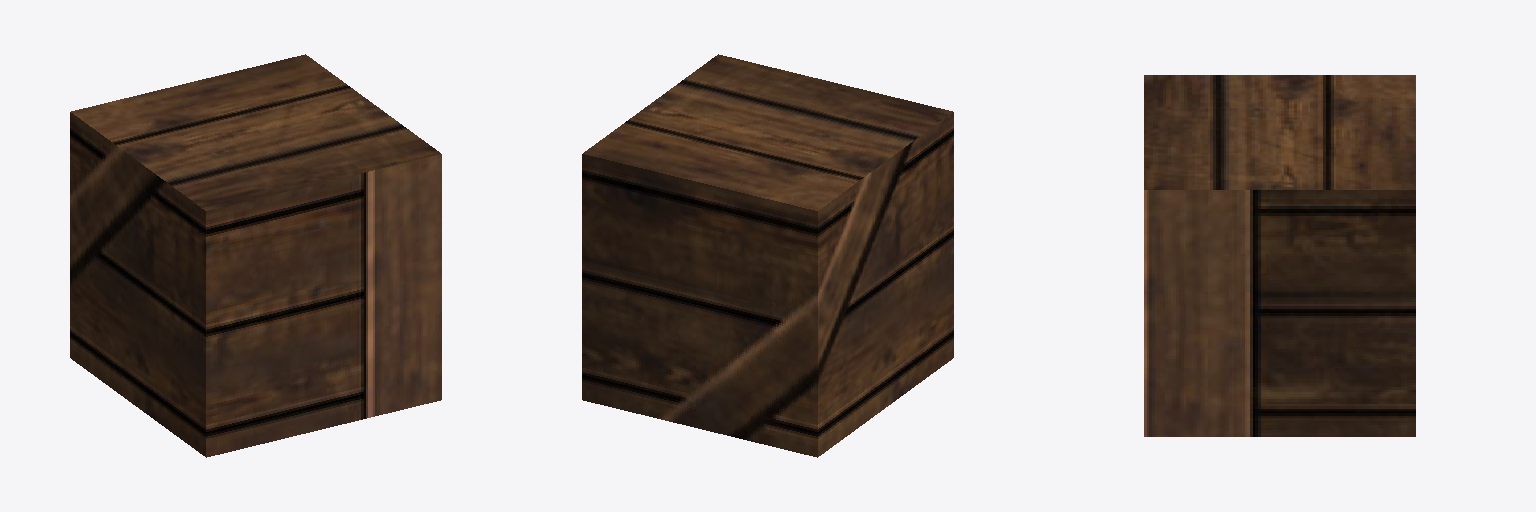
3 renders of one model, left to right at view 1: azimuth 30°, elevation 25°; view 2: azimuth 150°, elevation 25°; view 3: azimuth 270°, elevation 25°, orthographic.
Visible parts, largest first — view 1: Cube; view 2: Cube; view 3: Cube.
Part boxes in pixels (x1,y1,x2,y2): Cube: (70,54,441,457); Cube: (582,54,953,457); Cube: (1144,75,1415,436).
Size of the model in its own units: 1 by 1 by 1.
Materials: 1 (1 with a texture image).